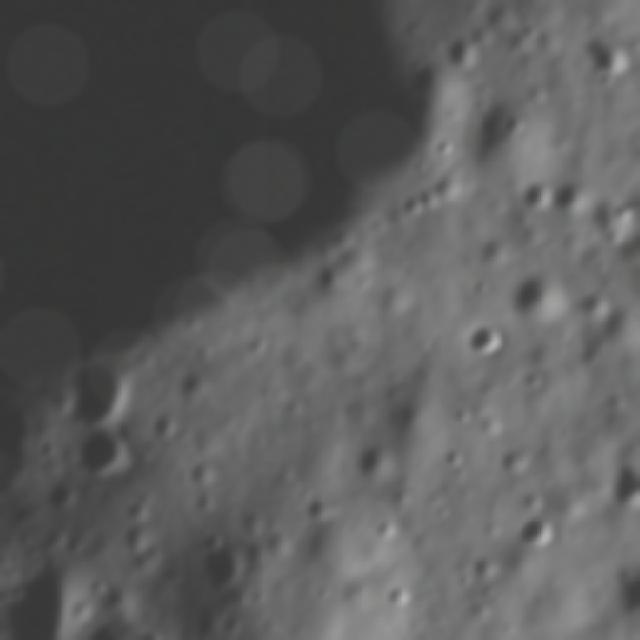crater: (67, 360, 135, 422), (75, 429, 140, 474), (520, 272, 572, 319), (202, 534, 244, 584), (458, 319, 508, 359), (600, 462, 640, 504), (594, 36, 632, 78), (512, 519, 558, 546), (522, 174, 550, 209)
